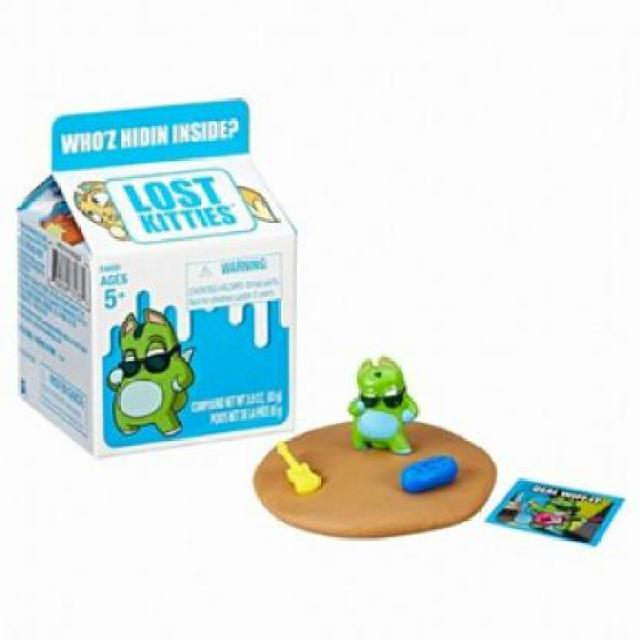non_white_jug: (9, 86, 300, 457)
